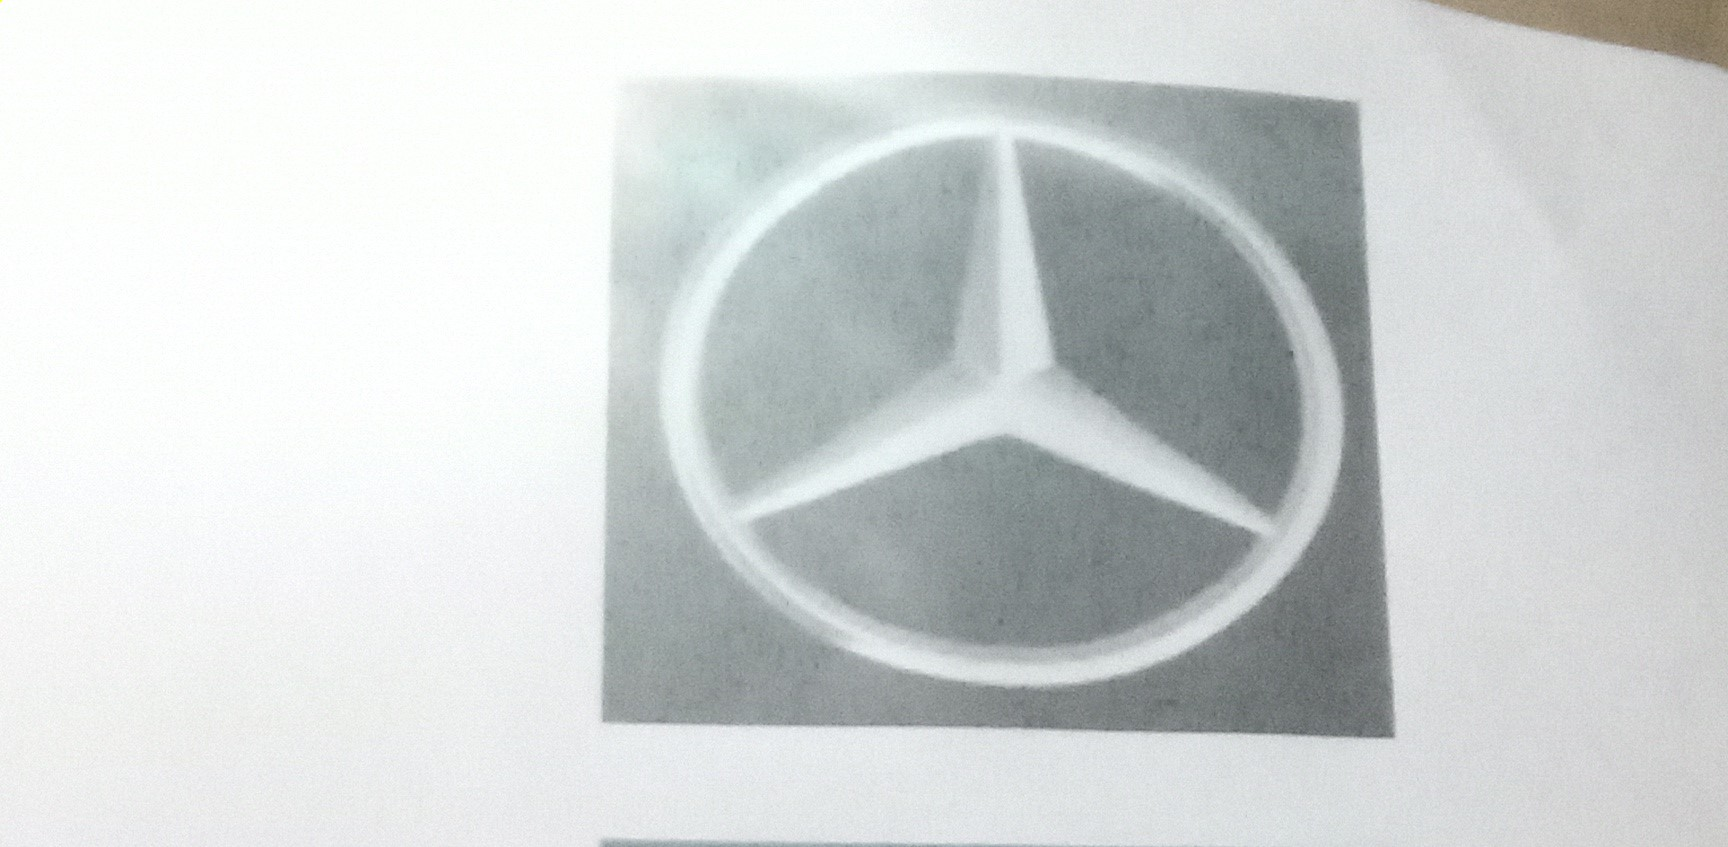Mercedes: (628, 86, 1367, 703)
